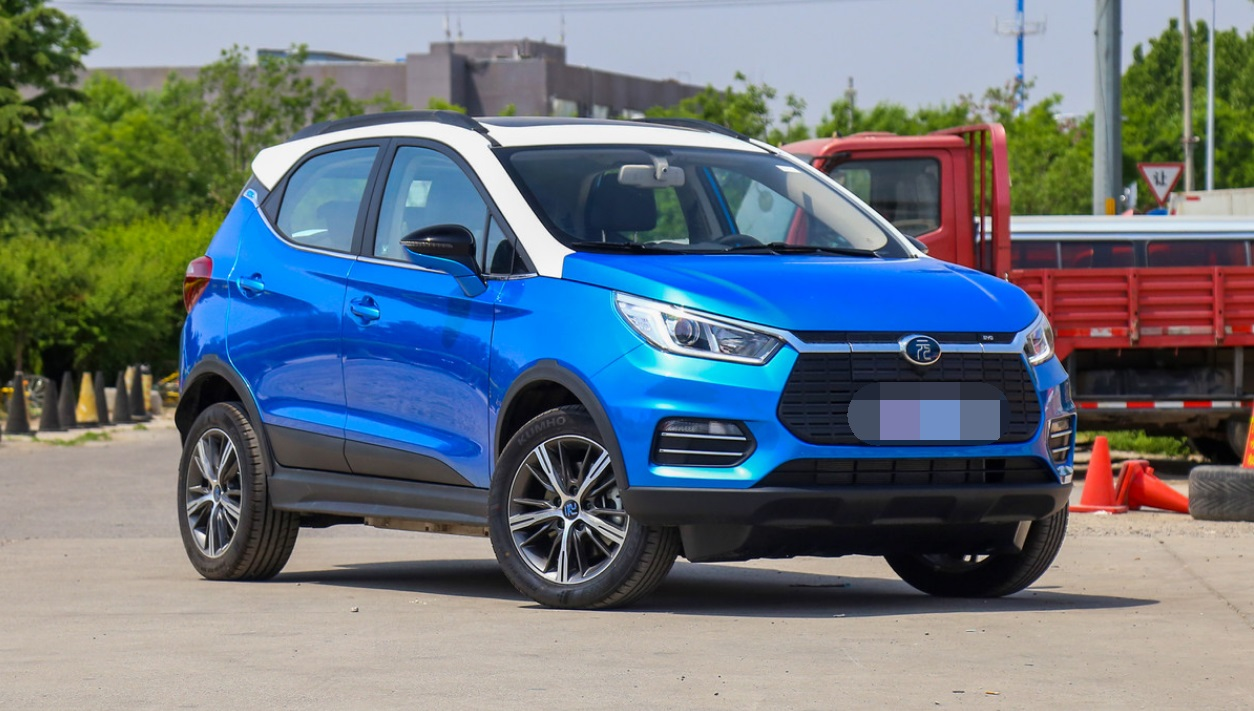SUV: (173, 108, 1077, 614)
